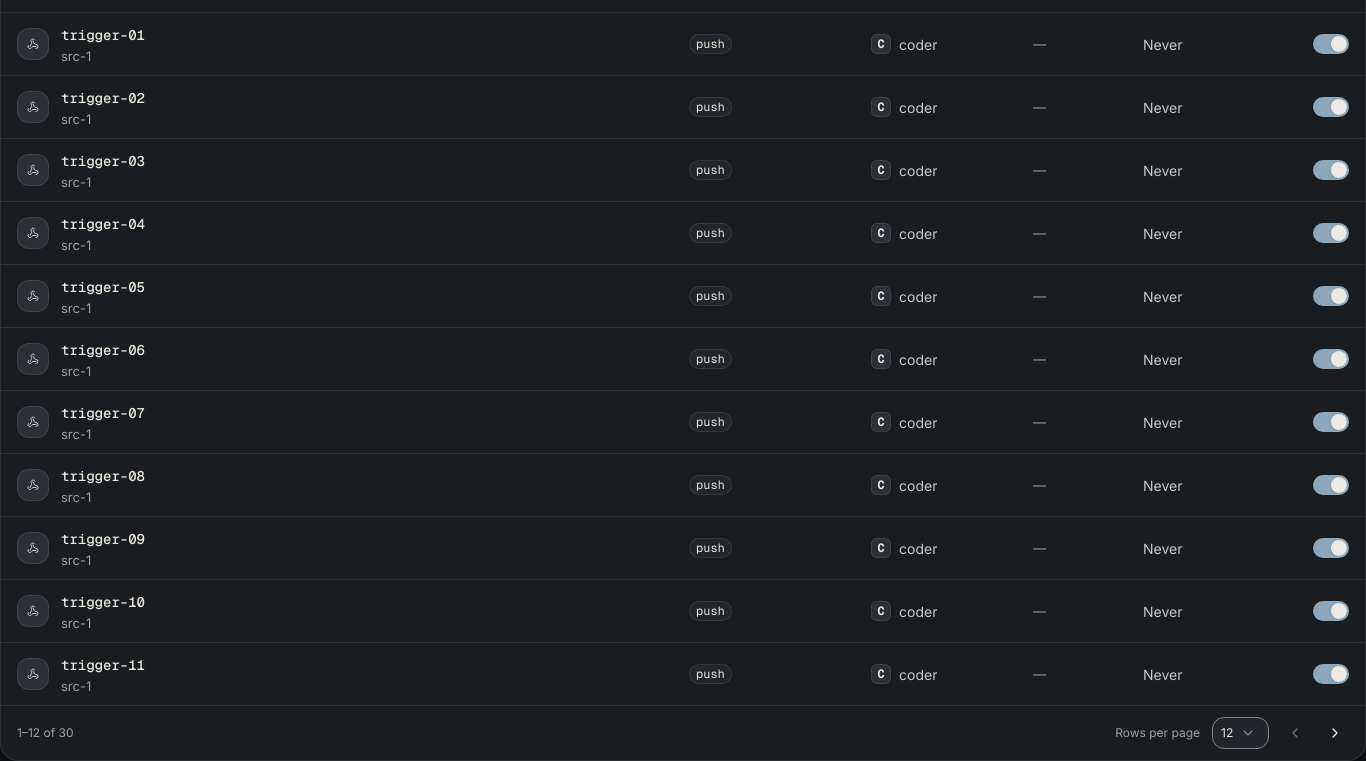
pagination › stops at both ends
This screenshot has width=1366, height=761.
(page scrolled)
Check: the button named "Previous page" is disabled, box [1281,719,1309,747]
Click the button named "Next page": (1335, 733) [1321,719,1349,747]
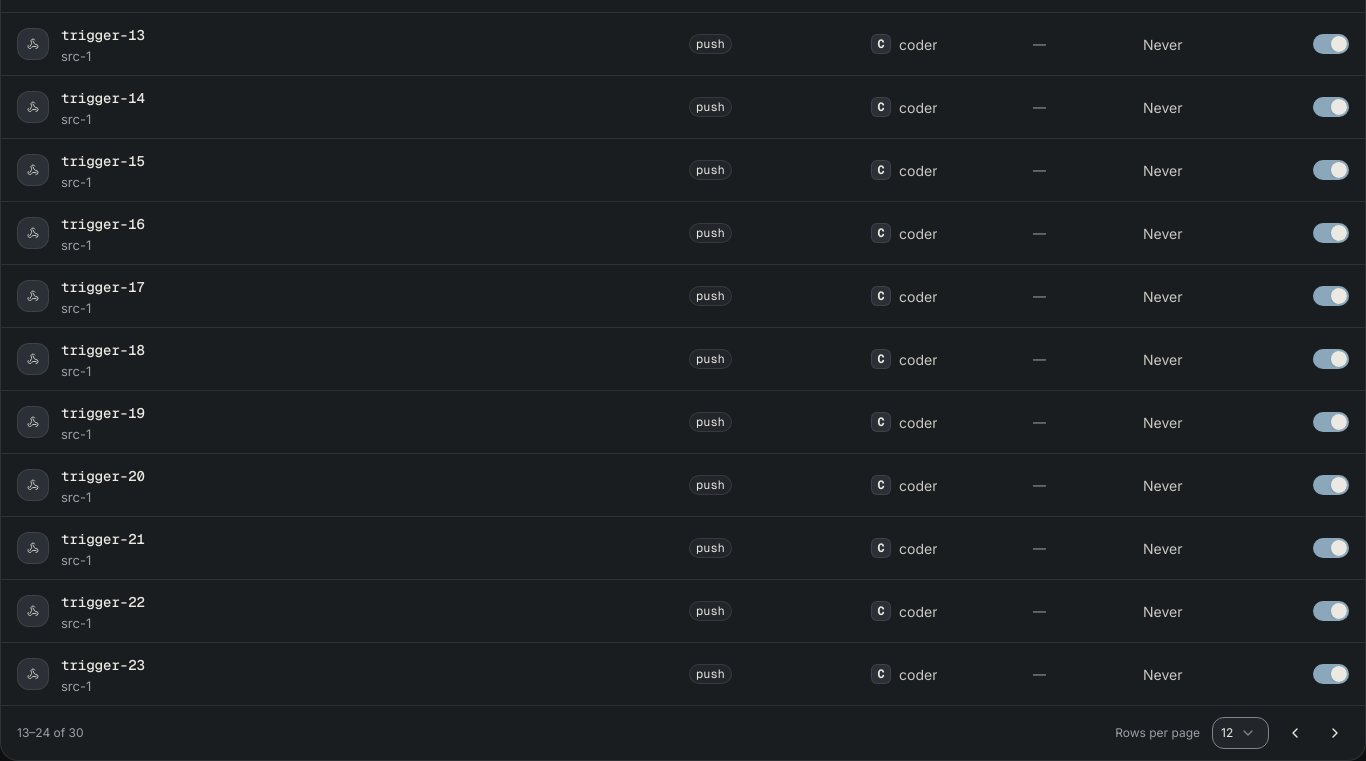
Click the button named "Next page": (1335, 733) [1321,719,1349,747]
(page scrolled)
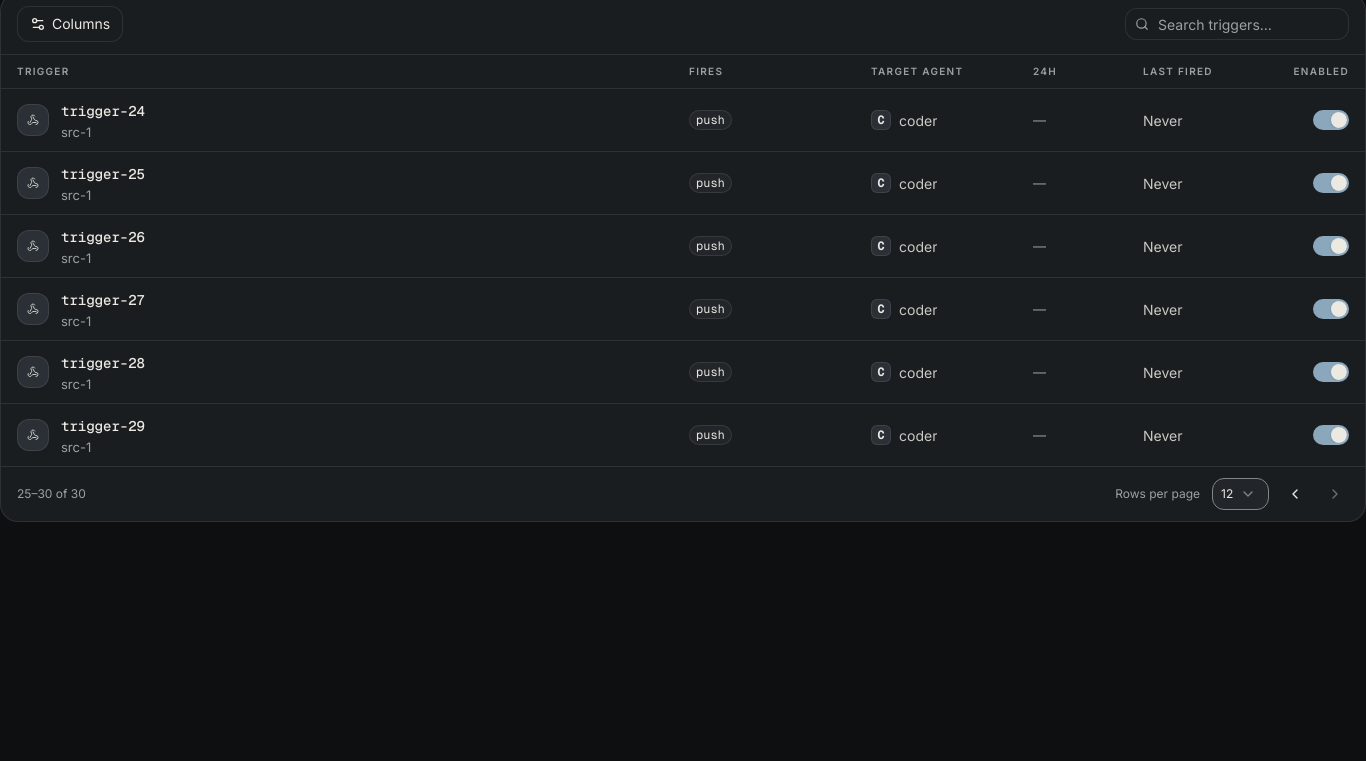
Check: the text "25–30 of 30" is shown, box [17,486,86,502]
Check: the button named "Next page" is disabled, box [1321,480,1349,508]
